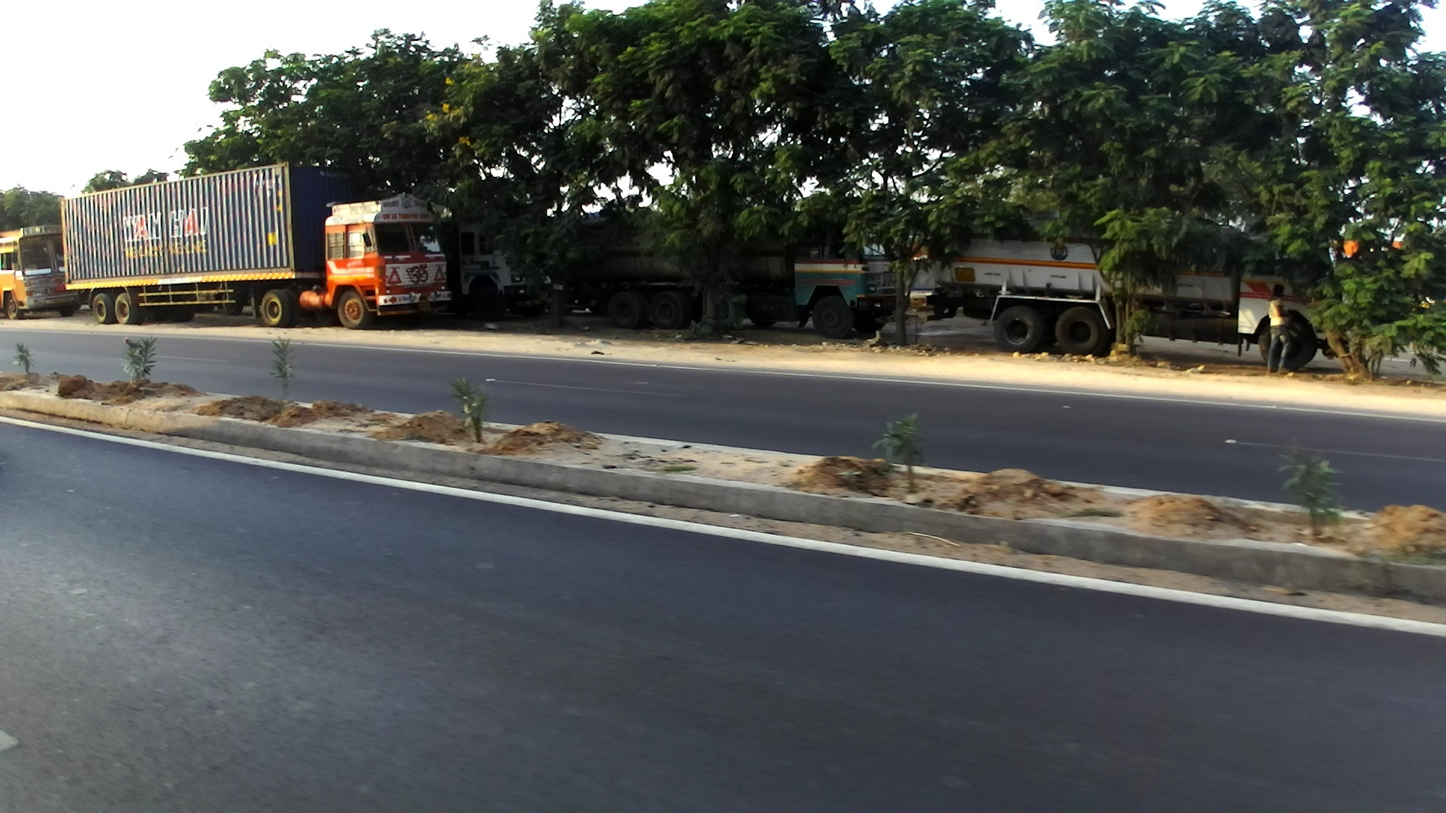person: (1260, 282, 1295, 378)
truck: (928, 199, 1351, 370), (61, 164, 454, 328), (551, 204, 914, 336), (440, 209, 563, 319), (2, 222, 83, 318)
